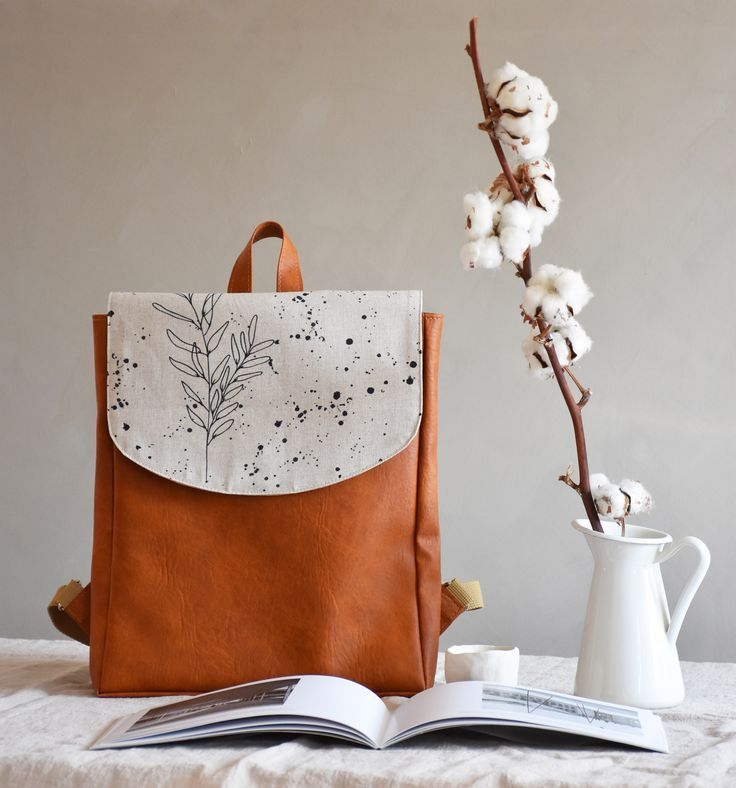cuero: (58, 221, 464, 696)
